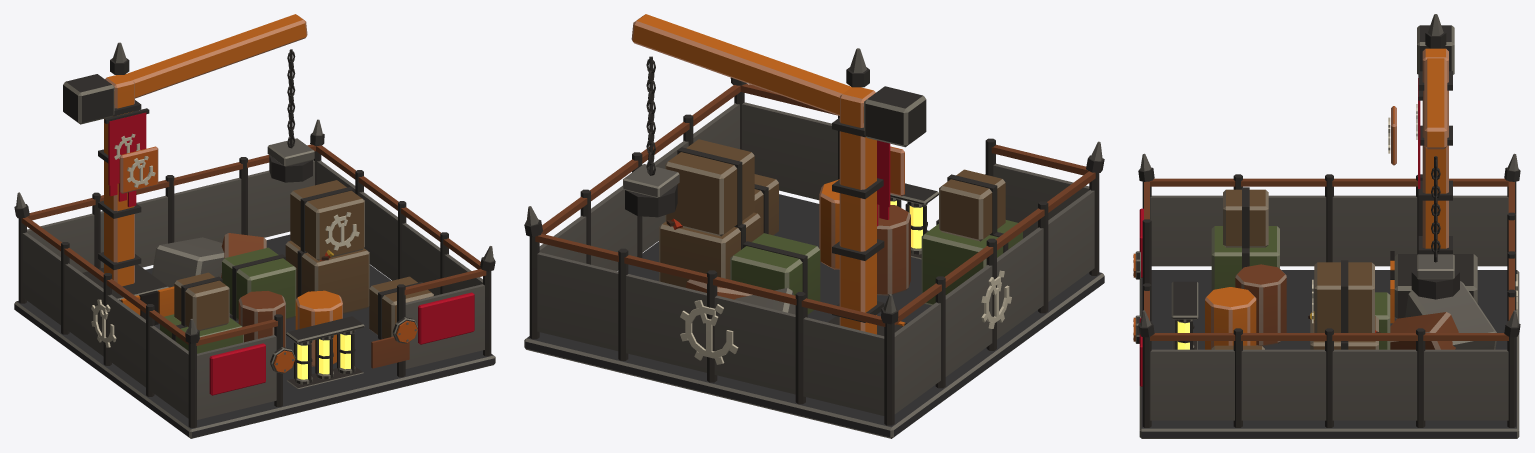
File: bb_depot.glb
3 renders of one model, left to right at view 1: azimuth 30°, elevation 25°; view 2: azimuth 150°, elevation 25°; view 3: azimuth 270°, elevation 25°, orthographic. The views are drawn at different scales.
Parts seen in each view (by area): view 1: bb_depot; view 2: bb_depot; view 3: bb_depot.
Boxes of the visible parts, <box> form: bb_depot: <box>14,14,495,438</box>; bb_depot: <box>524,14,1104,438</box>; bb_depot: <box>1133,14,1520,438</box>.
Size of the model in its own units: 5.03 by 4.36 by 5.1.
